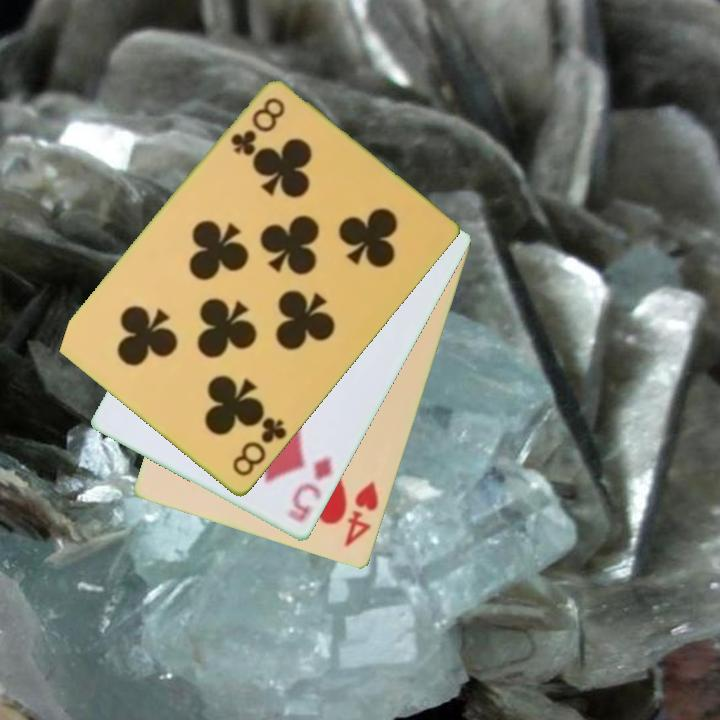4h: (341, 478, 382, 551)
5d: (283, 454, 336, 526)
8c: (226, 94, 288, 160), (229, 414, 290, 480)
